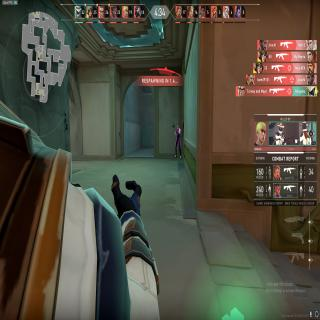ENEMY-BODY: (174, 123, 182, 159)
ENEMY-HEAD: (177, 123, 179, 129)
